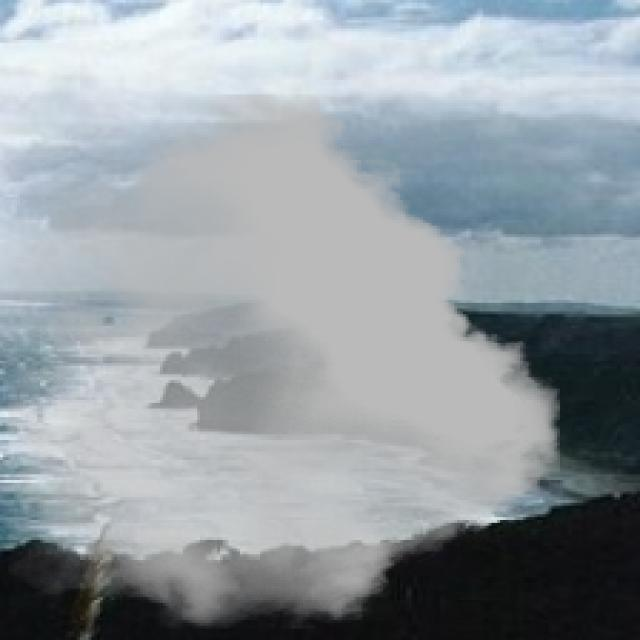Smoke: (8, 94, 560, 629)
